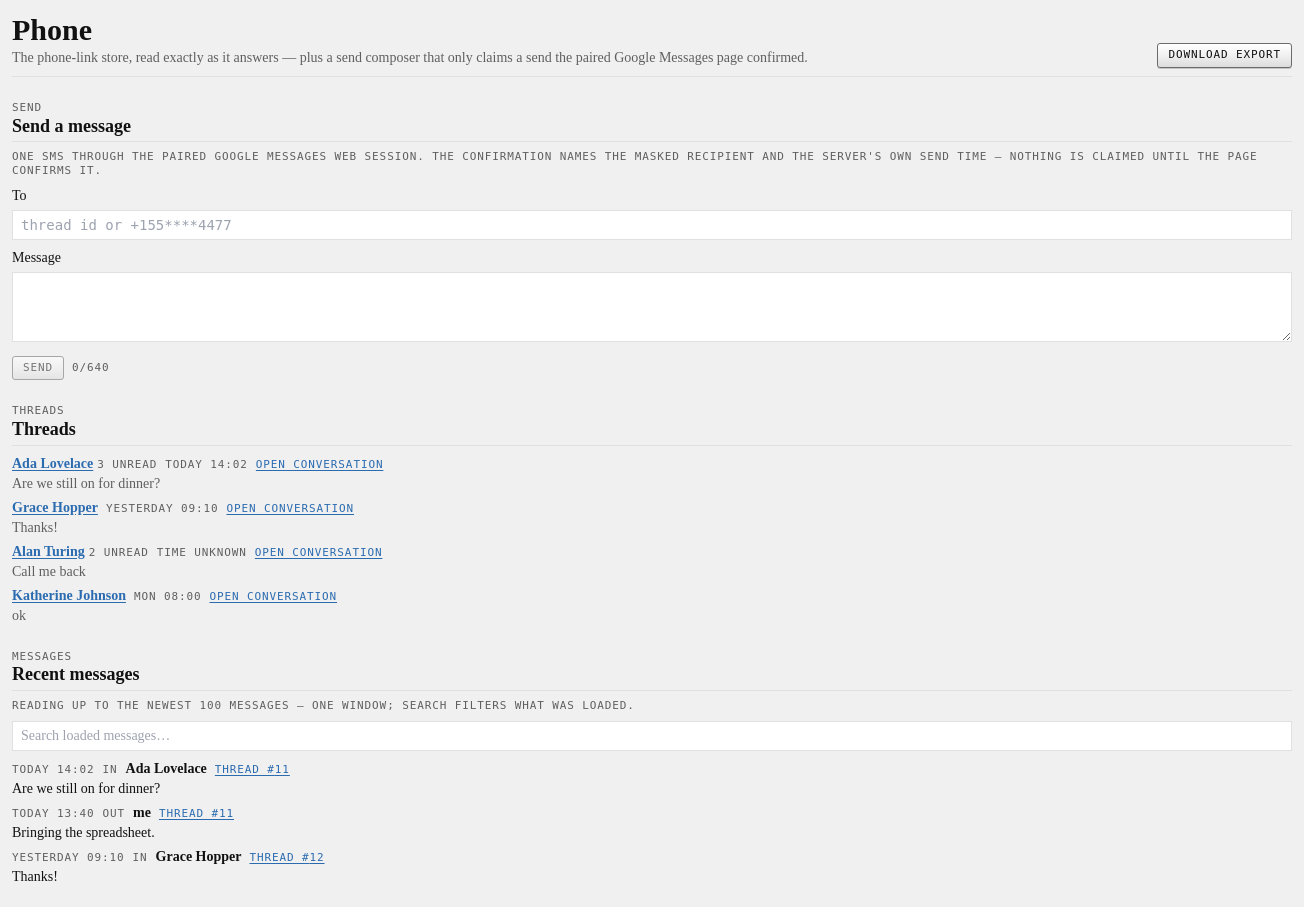
Test case: /phone page (H-P1 consumer) › search filters the LOADED window and says what it filtered
The width and height of the screenshot is (1304, 907).
Expected: the number of list items with test id "phone-message-row" is 3, [12,761,290,796]; [12,805,234,840]; [12,849,324,884]
Type "dinner" into the search field with test id "phone-search" at (652, 736), box [12,721,1292,751]
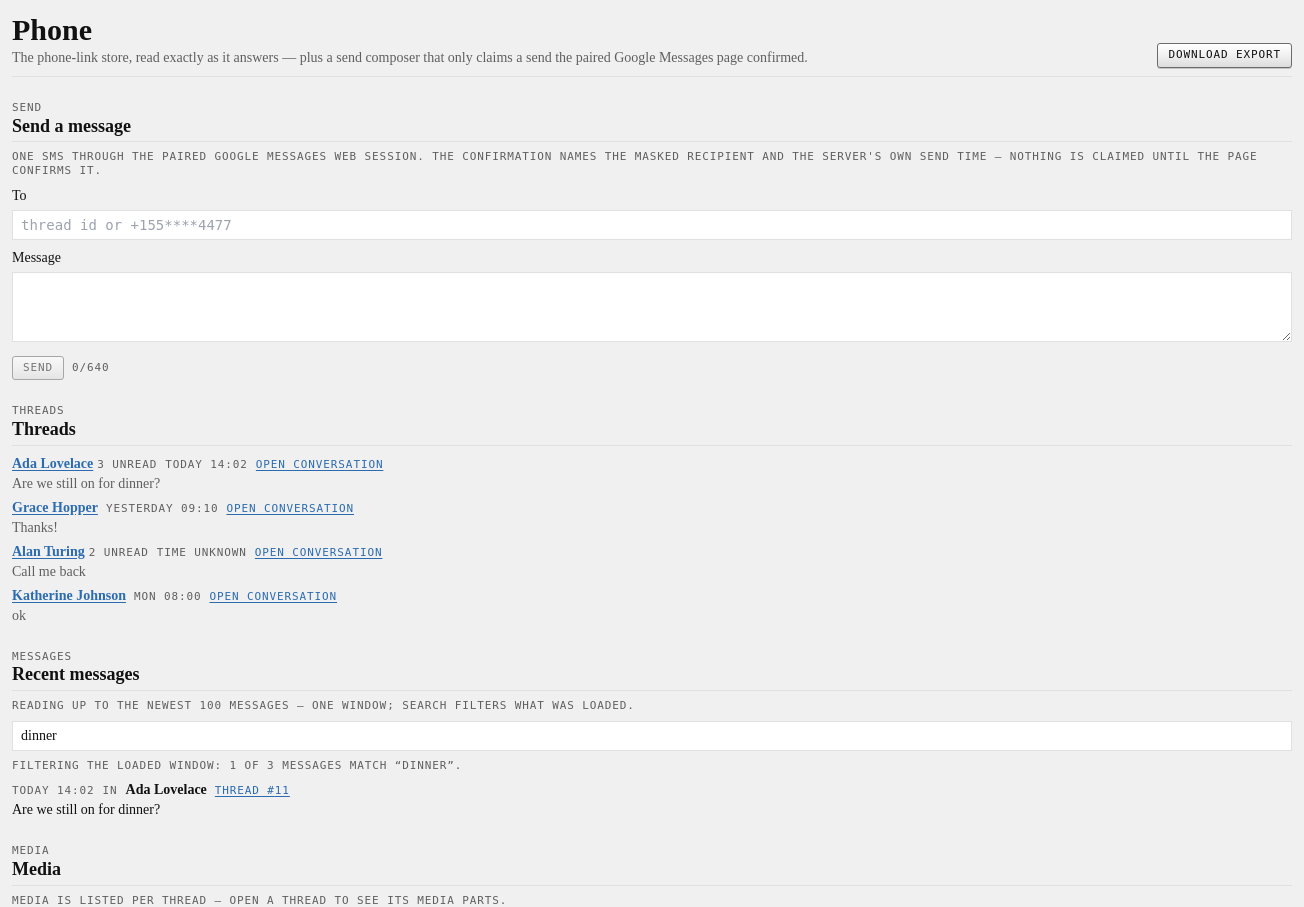
Expected: the list item with test id "phone-message-row" shows "Are we still on for dinner?", [12,802,160,817]
Expected: the number of list items with test id "phone-message-row" is 1, [12,782,290,817]
Expected: the message with test id "phone-search-note" shows "1 of 3", [12,759,462,772]
Replace the text in the search field with test id "phone-search" with "zzz-no-match" at (652, 736), box [12,721,1292,751]
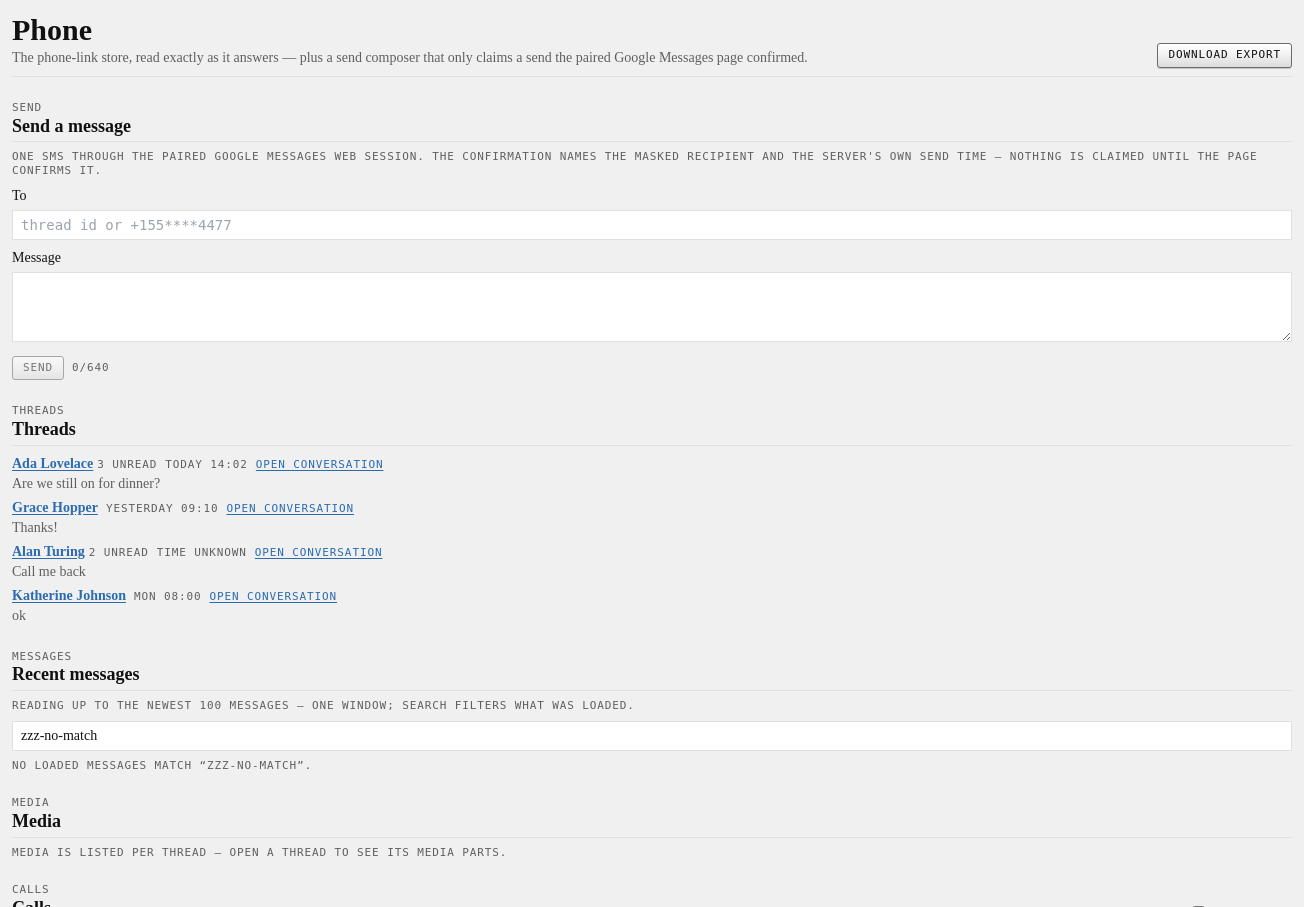
Expected: no list items with test id "phone-message-row" are shown
Expected: the message "No loaded messages match “zzz-no-match”." is shown, [12,759,312,772]
